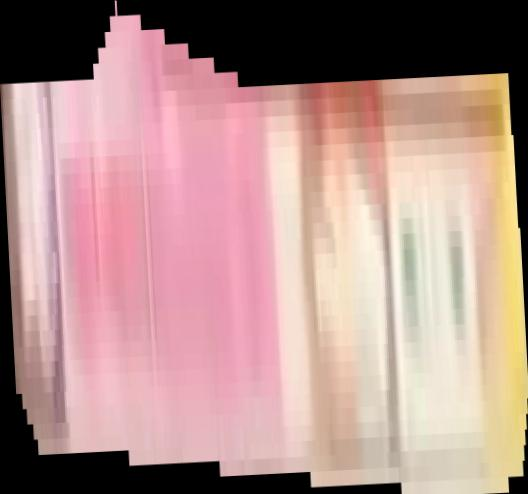flat: (1, 1, 528, 494)
